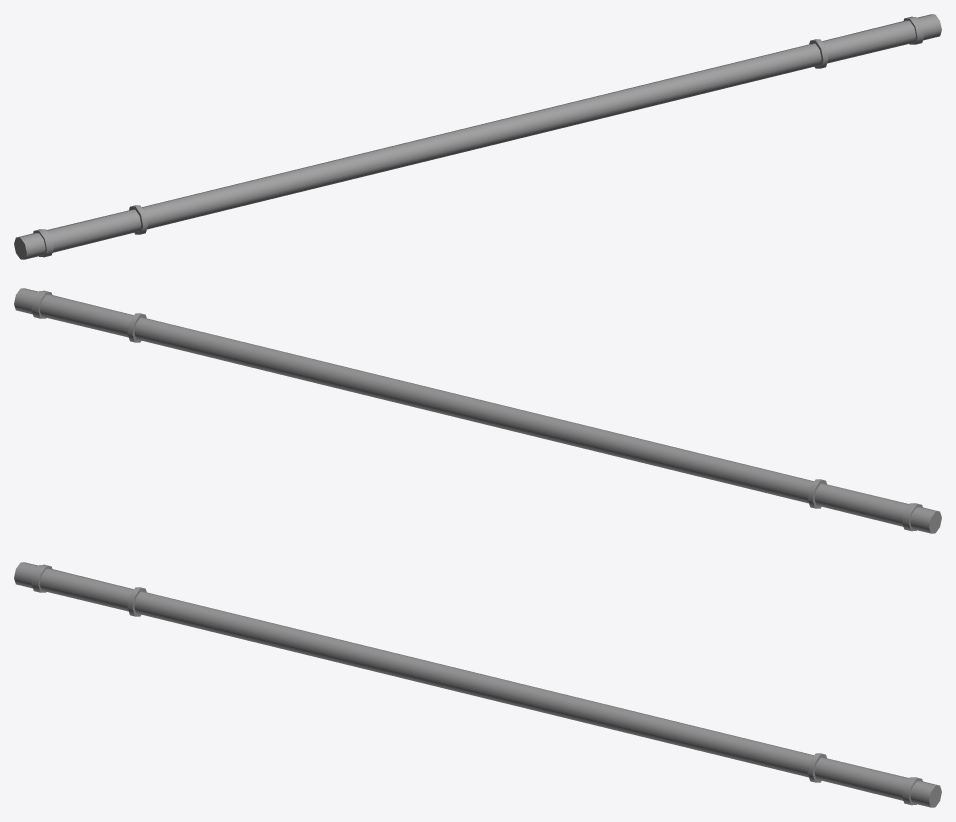
Rendered from barbell.glb.
The picture shows the model from 3 angles, top to bottom: view 1: azimuth 30°, elevation 25°; view 2: azimuth 150°, elevation 25°; view 3: azimuth 330°, elevation 25°; orthographic projection.
Visible parts, largest first — view 1: barbell_bar_gym_environment_0; view 2: barbell_bar_gym_environment_0; view 3: barbell_bar_gym_environment_0.
Boxes of the visible parts, x1,y1,x2,y2 form: barbell_bar_gym_environment_0: [14, 14, 941, 259]; barbell_bar_gym_environment_0: [14, 288, 941, 533]; barbell_bar_gym_environment_0: [14, 562, 941, 807].
Size of the model in its own units: 1.7 by 0.05 by 0.05.
Materials: 1 (1 with a texture image).
